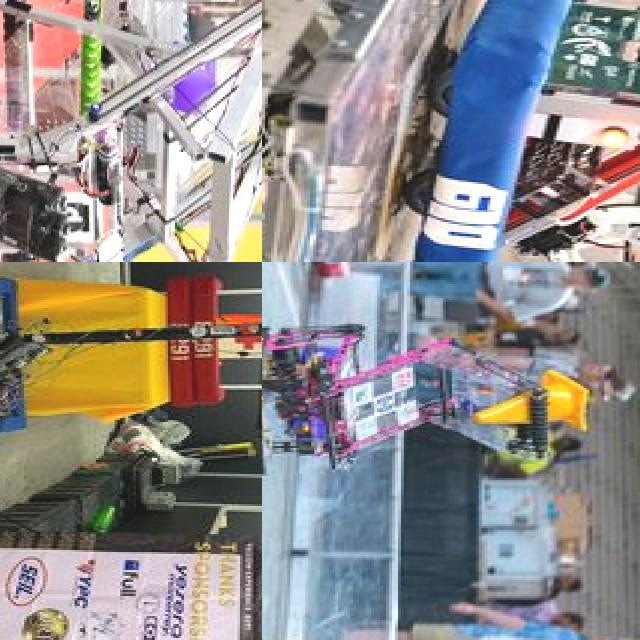FRC-Robots: (338, 0, 640, 262), (0, 0, 262, 262), (262, 330, 585, 540), (0, 262, 262, 513)
